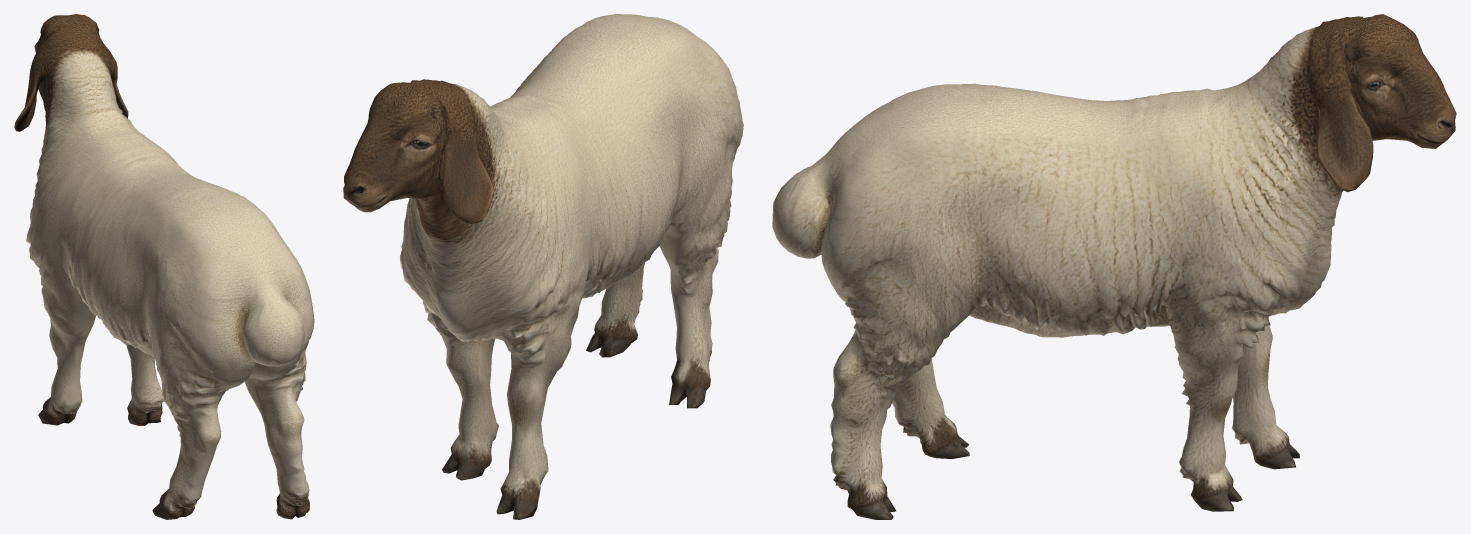
File: lamb.glb
3 renders of one model, left to right at view 1: azimuth 30°, elevation 25°; view 2: azimuth 150°, elevation 25°; view 3: azimuth 270°, elevation 25°, orthographic. The views are drawn at different scales.
Visible parts, largest first — view 1: tripo_node_0c7d58ca-0aed-44e1-ac35-a3d6fc2a4814; view 2: tripo_node_0c7d58ca-0aed-44e1-ac35-a3d6fc2a4814; view 3: tripo_node_0c7d58ca-0aed-44e1-ac35-a3d6fc2a4814.
Boxes of the visible parts, x1,y1,x2,y2 form: tripo_node_0c7d58ca-0aed-44e1-ac35-a3d6fc2a4814: [14, 14, 314, 519]; tripo_node_0c7d58ca-0aed-44e1-ac35-a3d6fc2a4814: [343, 14, 743, 519]; tripo_node_0c7d58ca-0aed-44e1-ac35-a3d6fc2a4814: [772, 14, 1456, 519].
Bounding box in the file's own units: 0.3081 × 0.7465 × 0.9776.
1 material, 1 textured.
